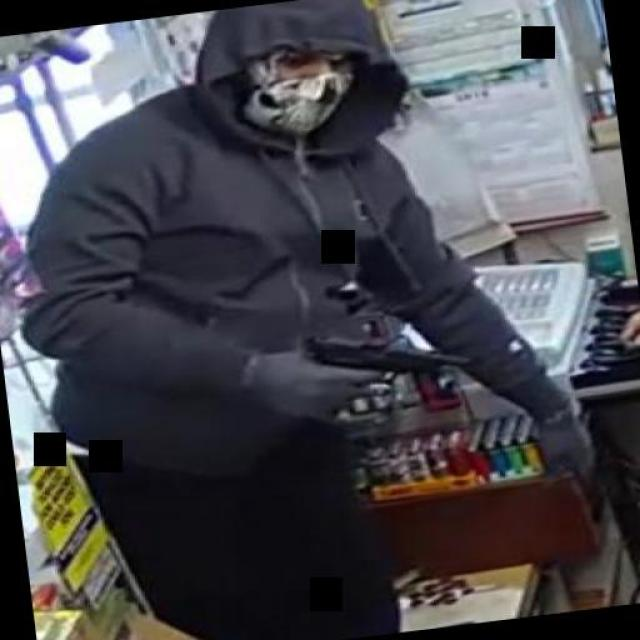gun: (286, 318, 476, 427)
